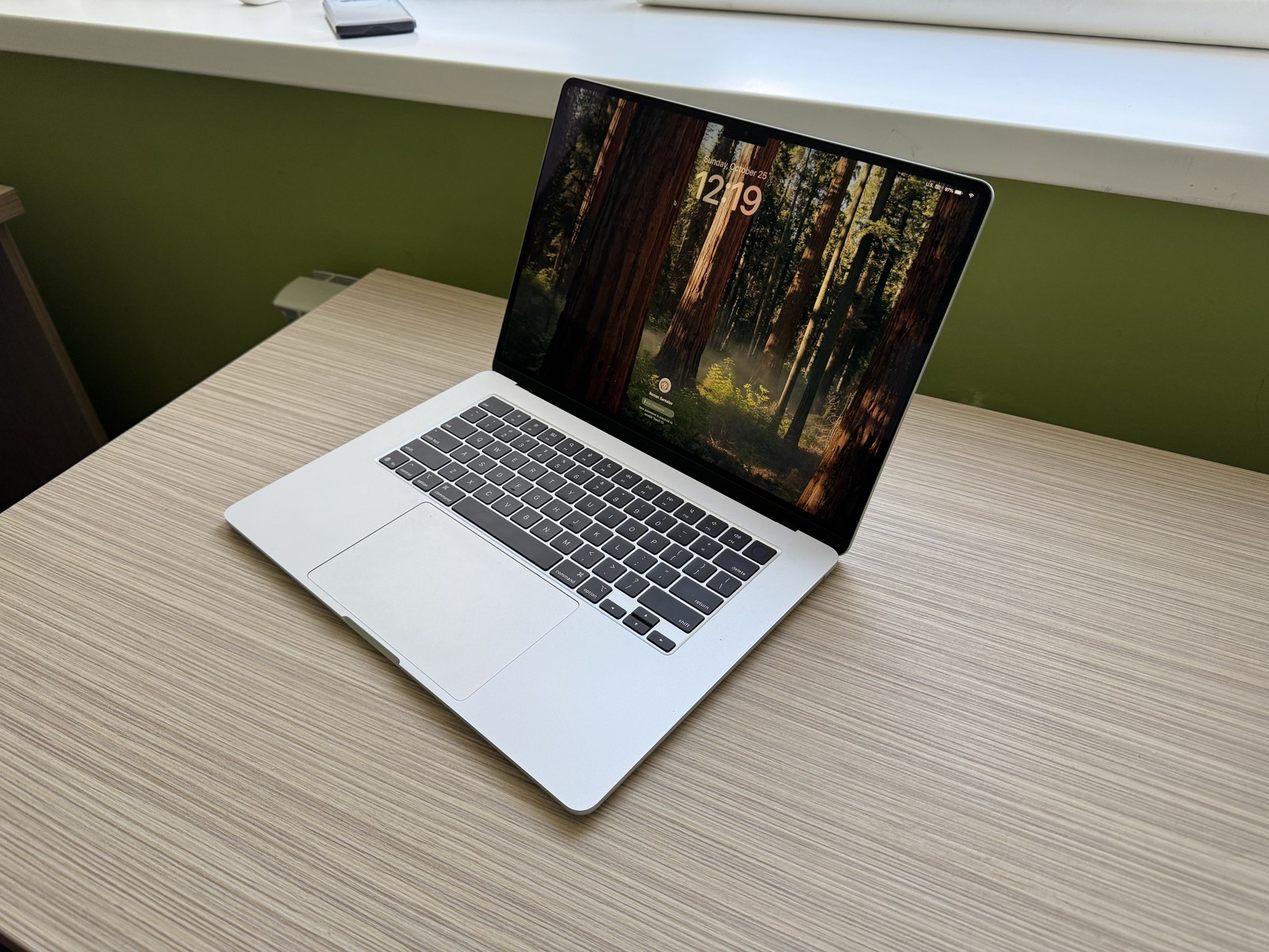cell phone: (322, 0, 416, 38)
laptop: (223, 76, 995, 816)
